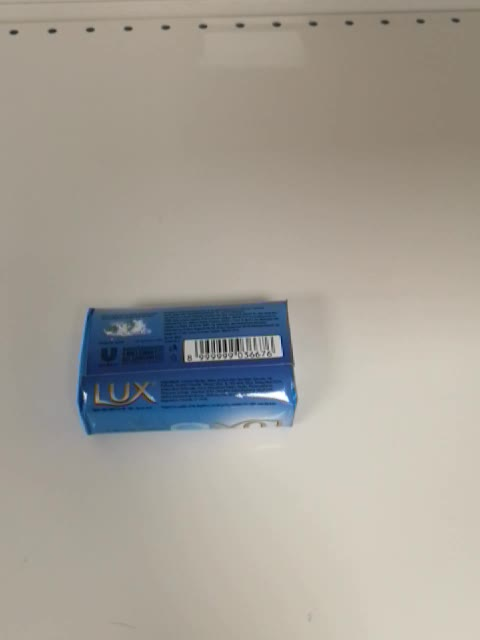soap: (74, 297, 299, 437)
